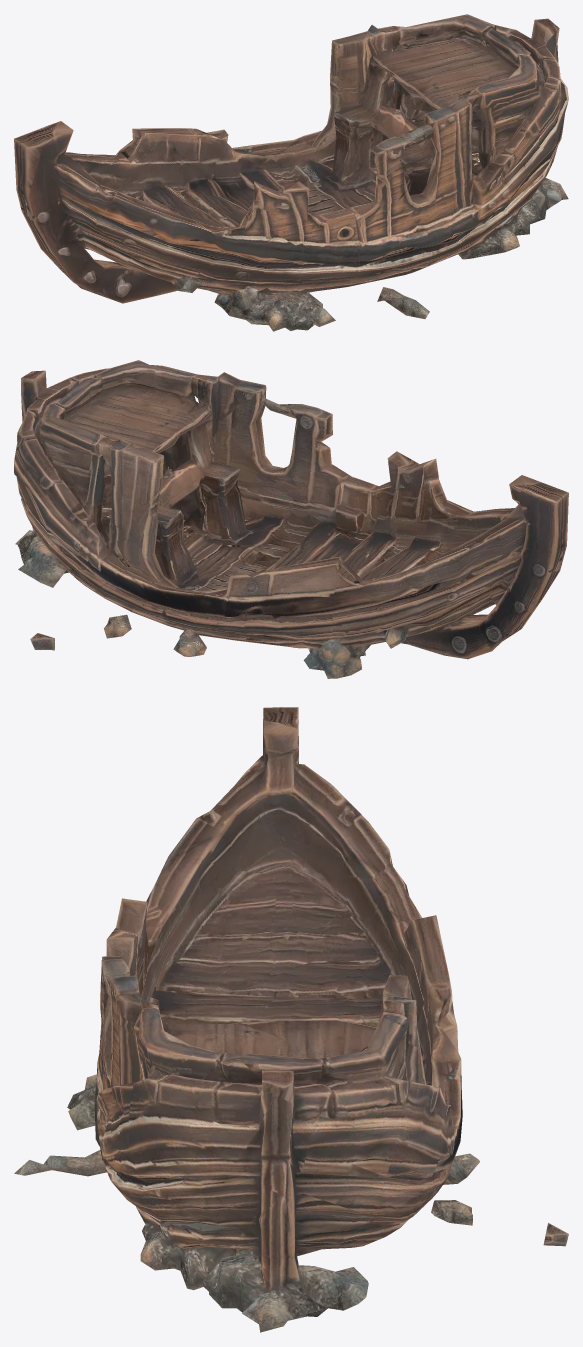
The model's file is shipwreck_hull_piece.glb.
The picture shows the model from 3 angles, top to bottom: view 1: azimuth 30°, elevation 25°; view 2: azimuth 150°, elevation 25°; view 3: azimuth 270°, elevation 25°; orthographic projection. The views are drawn at different scales.
Bounding box in the file's own units: 1.88 × 0.6297 × 1.19.
1 material, 1 textured.
